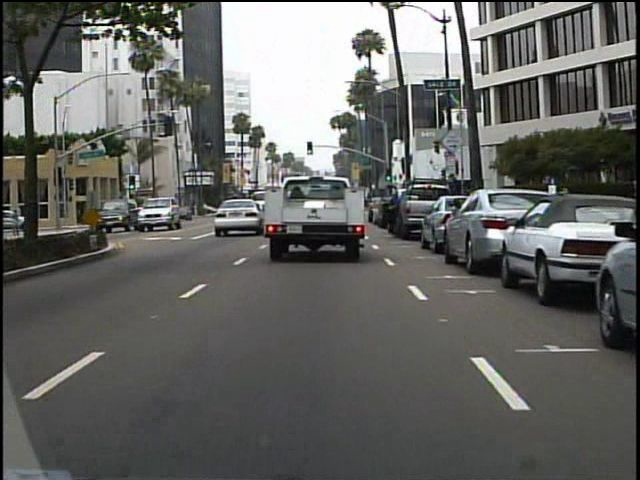person: (382, 184, 404, 236)
